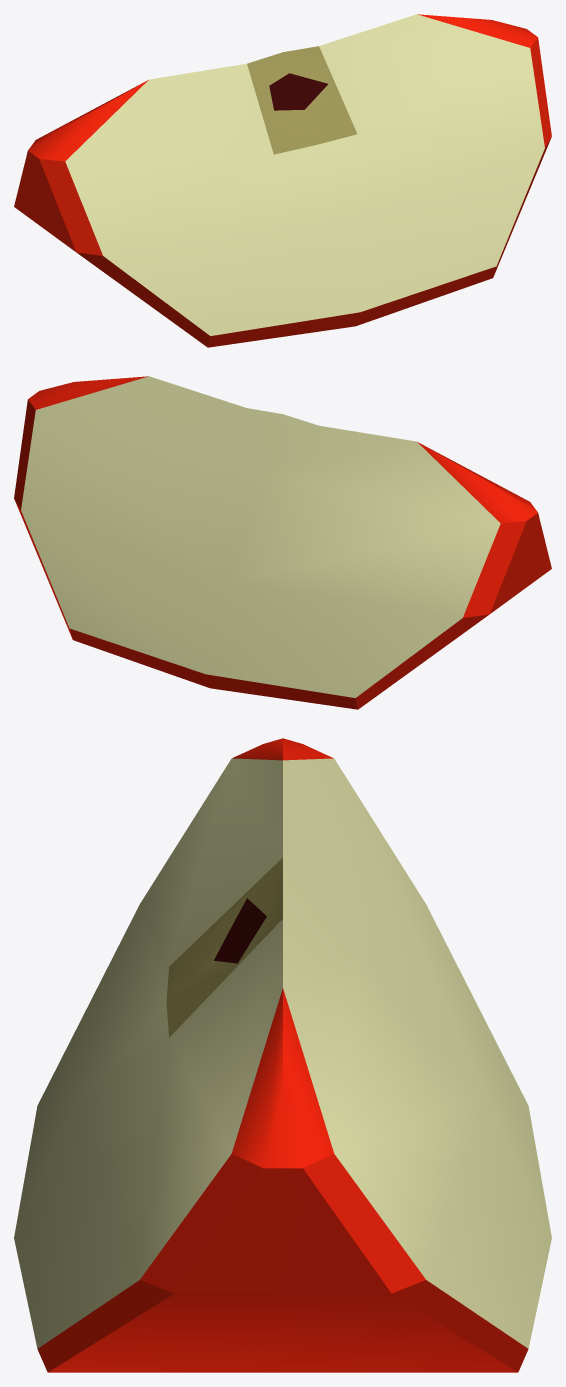
Rendered from Tempura.fbx.
The picture shows the model from 3 angles, top to bottom: view 1: azimuth 30°, elevation 25°; view 2: azimuth 150°, elevation 25°; view 3: azimuth 270°, elevation 25°; orthographic projection. The views are drawn at different scales.
Visible parts, largest first — view 1: Mieng tao; view 2: Mieng tao; view 3: Mieng tao.
Part boxes in pixels (left/top/right/bottom): Mieng tao: left=14, top=14, right=551, bottom=347; Mieng tao: left=14, top=376, right=551, bottom=709; Mieng tao: left=14, top=738, right=551, bottom=1372.
Size of the model in its own units: 38.33 by 18.22 by 20.55.
